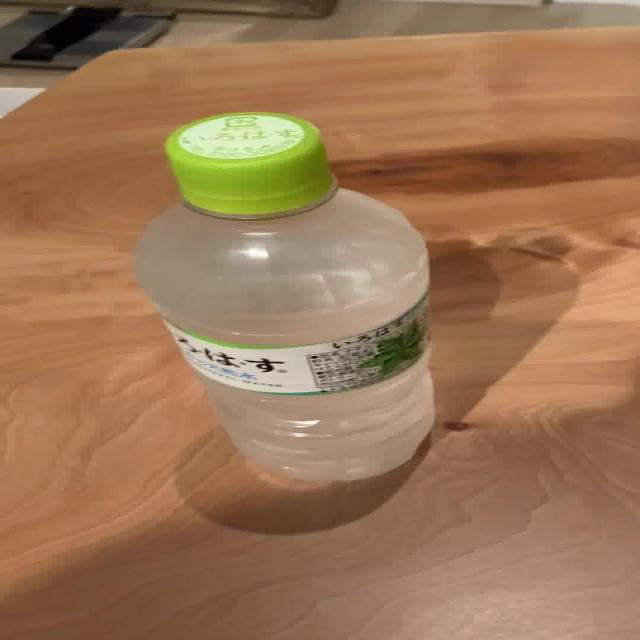good: (128, 110, 444, 484)
